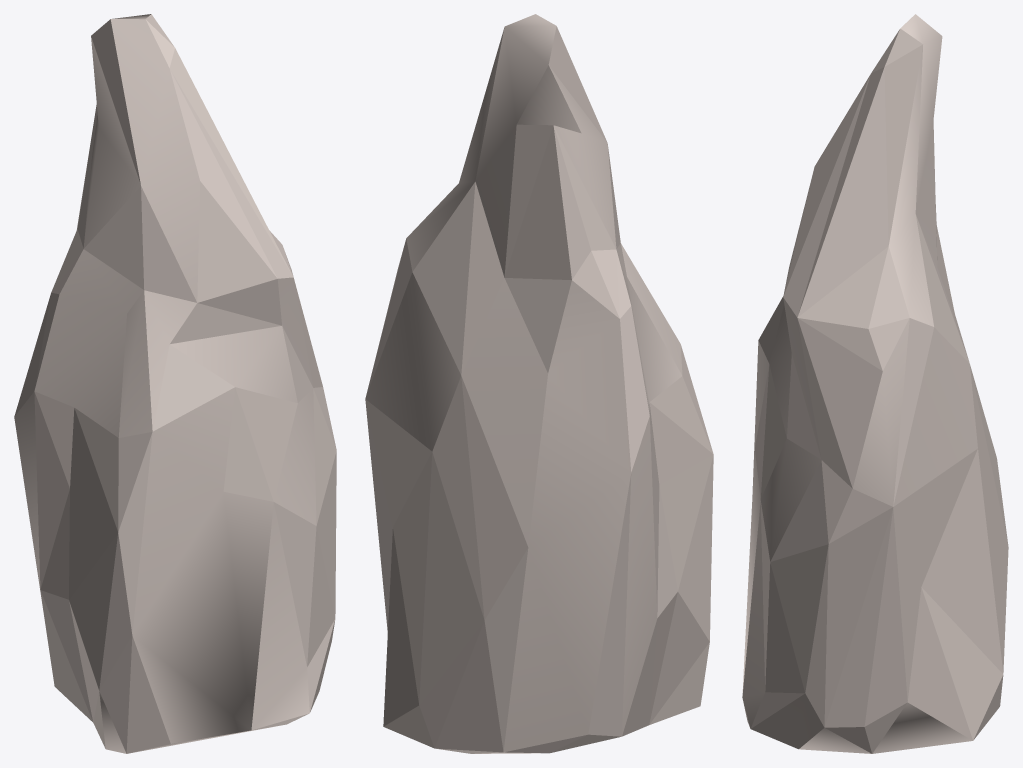
Rendered from Rock_6.fbx.
3 views of the same model, side by side, from view 1: azimuth 30°, elevation 25°; view 2: azimuth 150°, elevation 25°; view 3: azimuth 270°, elevation 25° (orthographic). The views are drawn at different scales.
Visible parts, largest first — view 1: Rock_6; view 2: Rock_6; view 3: Rock_6.
Boxes of the visible parts, x1,y1,x2,y2 form: Rock_6: (14, 14, 336, 753); Rock_6: (365, 14, 713, 753); Rock_6: (742, 14, 1008, 753).
Size of the model in its own units: 96.69 by 225 by 82.09.
